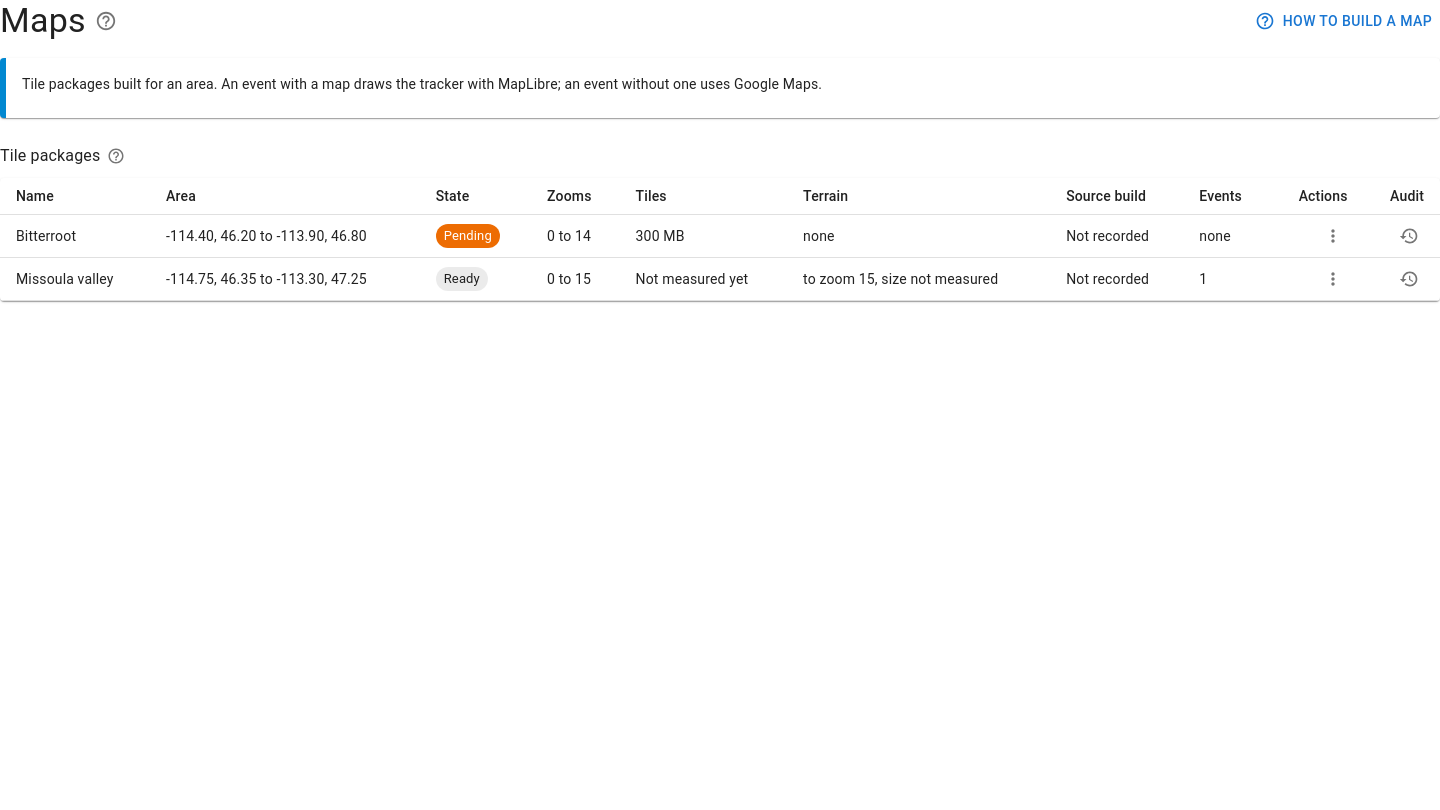
Test case: MapsList › hides Replace with when no events unlink
Click the button named "Actions for Bitterroot": coordinates (1333, 236) [1318,221,1348,251]
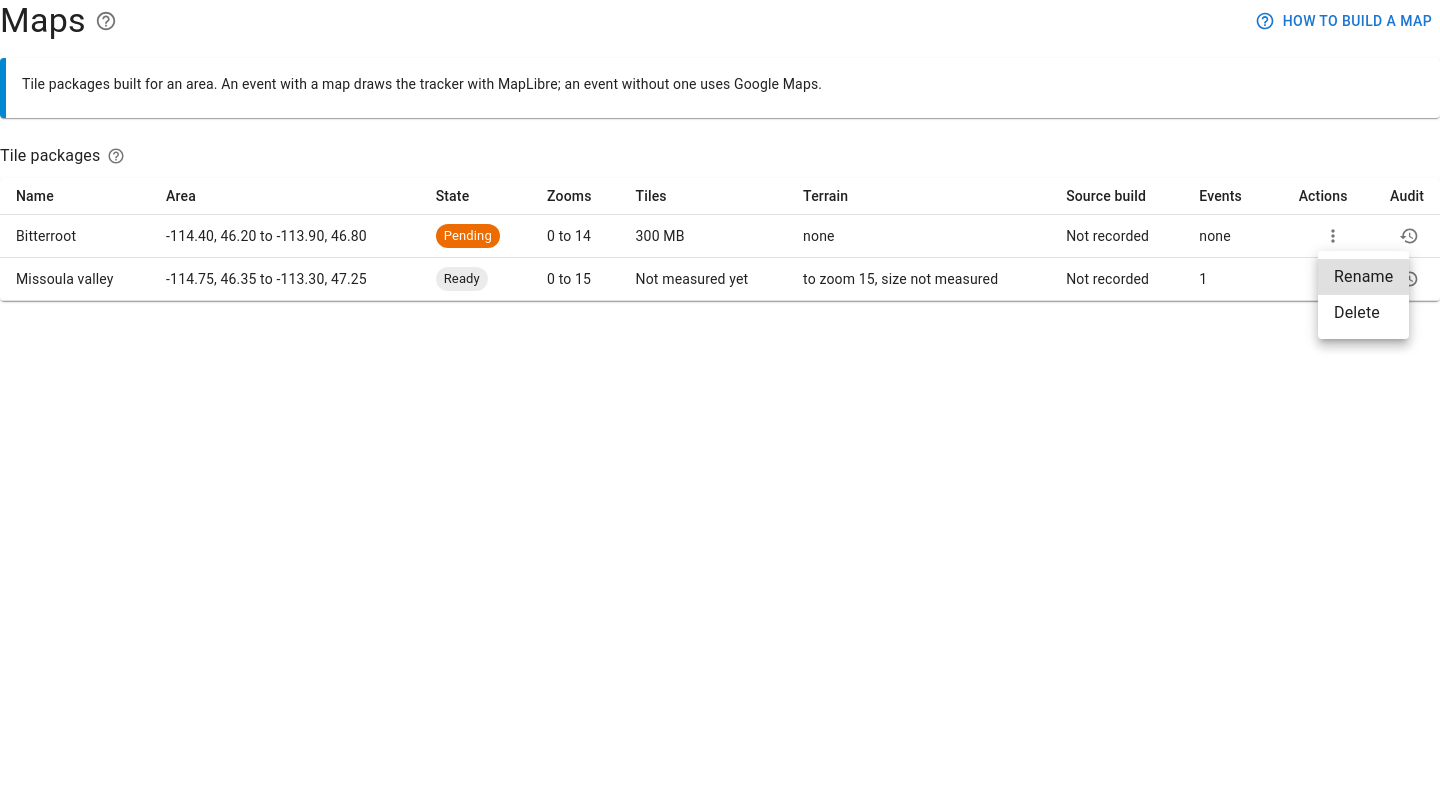
Click the menu item "Delete": coordinates (1357, 312) [1334,303,1380,322]
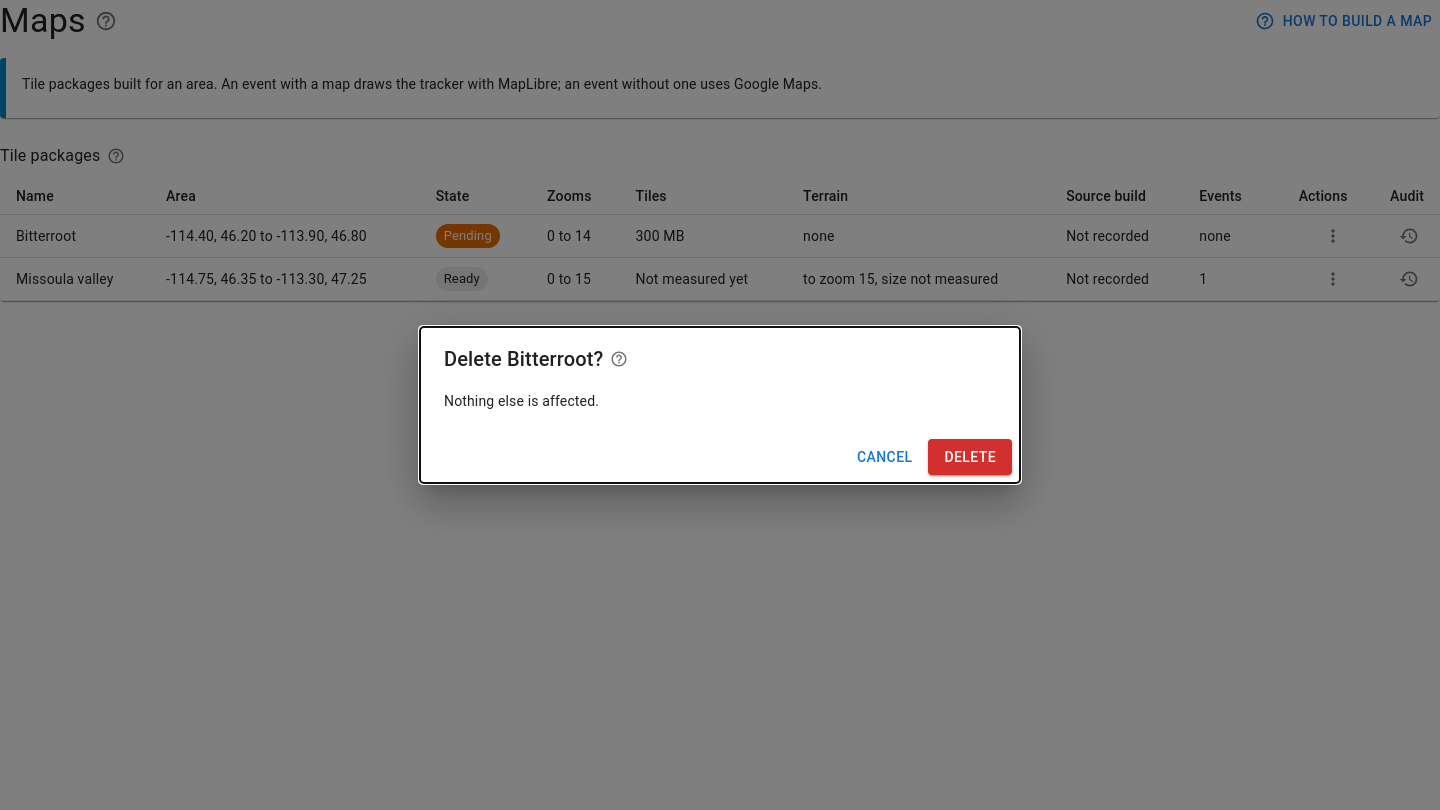
Check: the text "Nothing else is affected." is shown, box [444,393,599,409]
